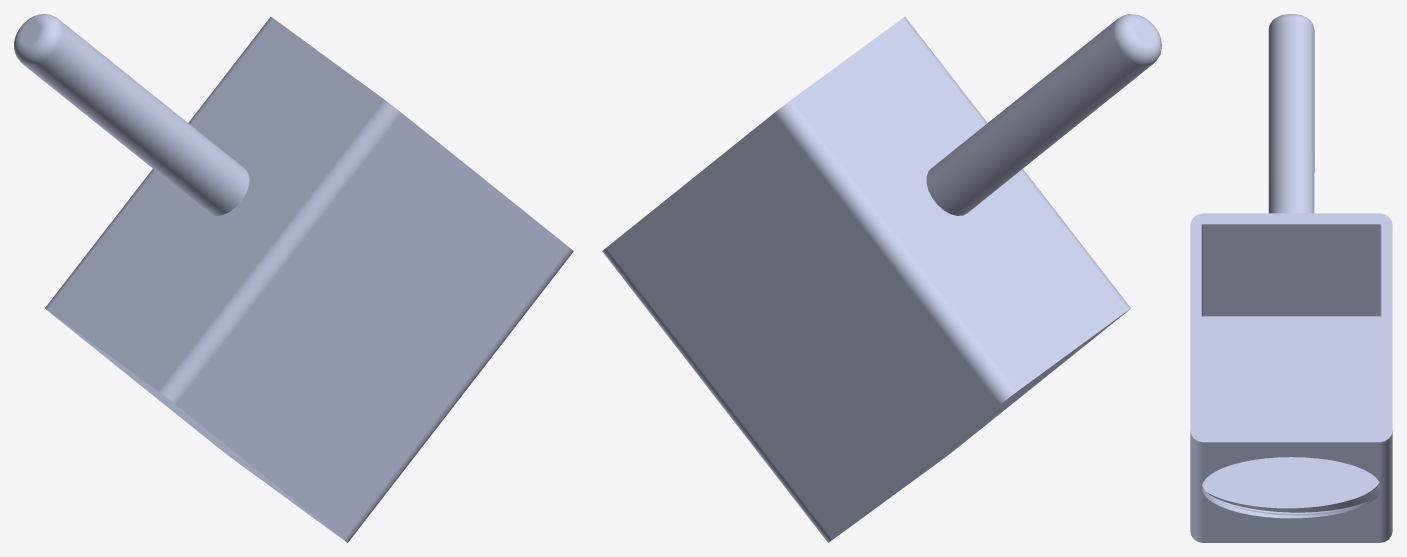
File: body46_visual.obj
3 renders of one model, left to right at view 1: azimuth 30°, elevation 25°; view 2: azimuth 150°, elevation 25°; view 3: azimuth 270°, elevation 25°, orthographic. The views are drawn at different scales.
Parts seen in each view (by area): view 1: Body46; view 2: Body46; view 3: Body46.
Part boxes in pixels (x1=…): Body46: x1=14, y1=14, x2=573, y2=542; Body46: x1=602, y1=14, x2=1161, y2=542; Body46: x1=1190, y1=14, x2=1392, y2=542.
Size of the model in its own units: 0.8947 by 0.9336 by 0.395.
